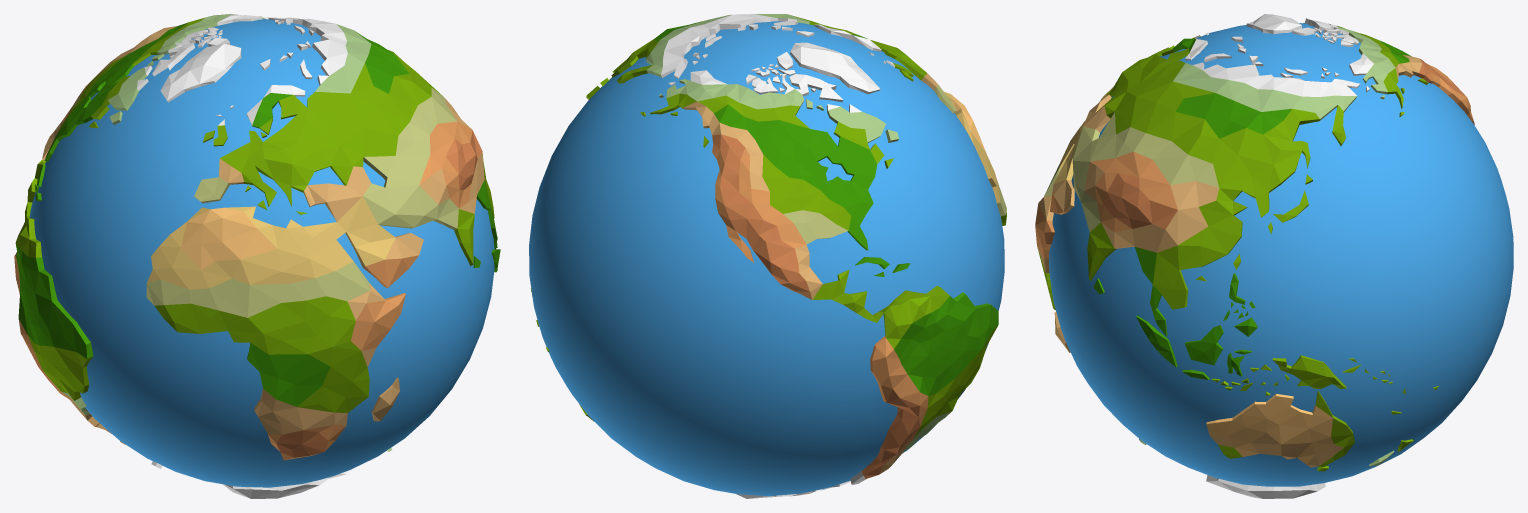
The picture shows the model from 3 angles, left to right: view 1: azimuth 30°, elevation 25°; view 2: azimuth 150°, elevation 25°; view 3: azimuth 270°, elevation 25°; orthographic projection. The views are drawn at different scales.
Visible parts, largest first — view 1: PlanetEarth; view 2: PlanetEarth; view 3: PlanetEarth.
Boxes of the visible parts, x1,y1,x2,y2 form: PlanetEarth: [14, 14, 500, 498]; PlanetEarth: [529, 14, 1006, 498]; PlanetEarth: [1035, 14, 1513, 498].
Size of the model in its own units: 174 by 177 by 174.
